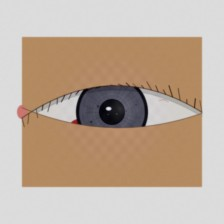hemorrhage_spot: (59, 91, 142, 157)
